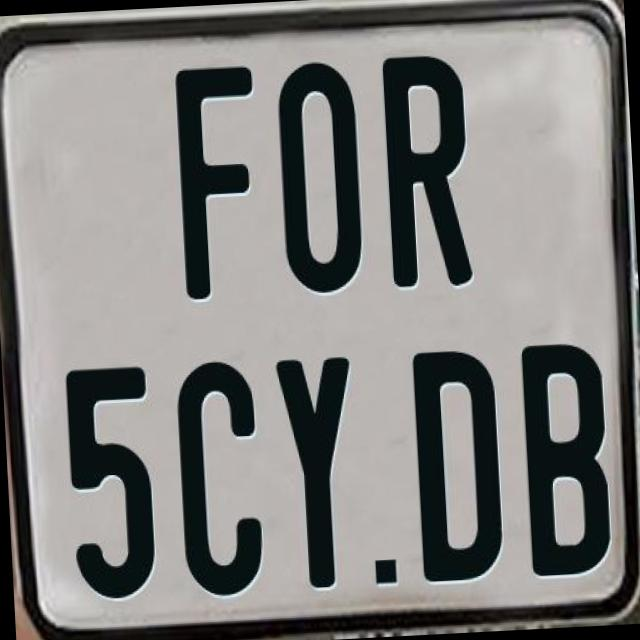0: (273, 56, 365, 290)
5: (62, 363, 158, 605)
B: (516, 342, 612, 584)
C: (174, 360, 270, 603)
D: (412, 346, 508, 587)
F: (172, 61, 270, 302)
R: (378, 52, 471, 296)
Y: (274, 357, 363, 591)
